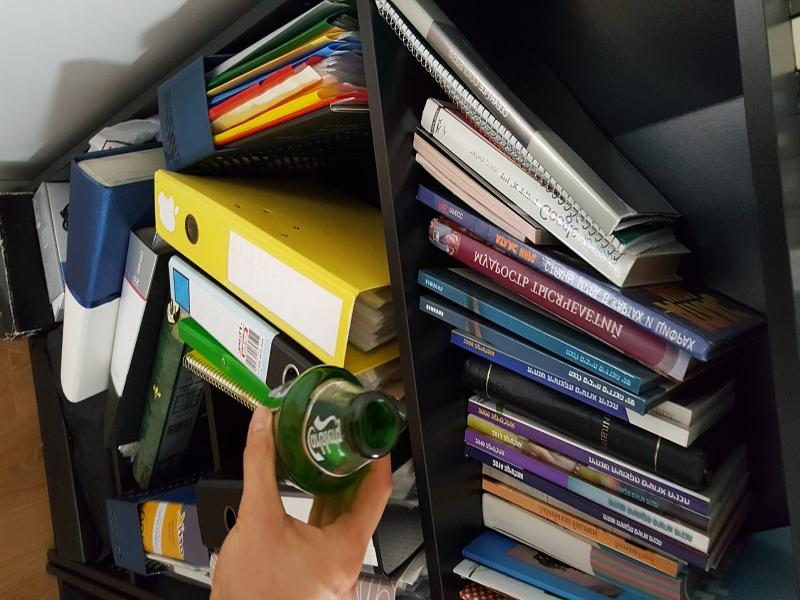Beer: (261, 366, 396, 490)
